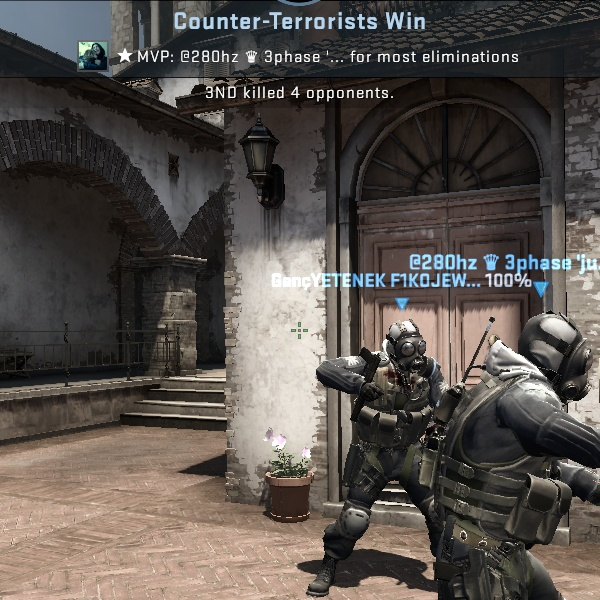ct_body: (378, 304, 581, 600), (332, 311, 472, 592)
ct_head: (512, 306, 597, 404), (376, 316, 434, 372)
